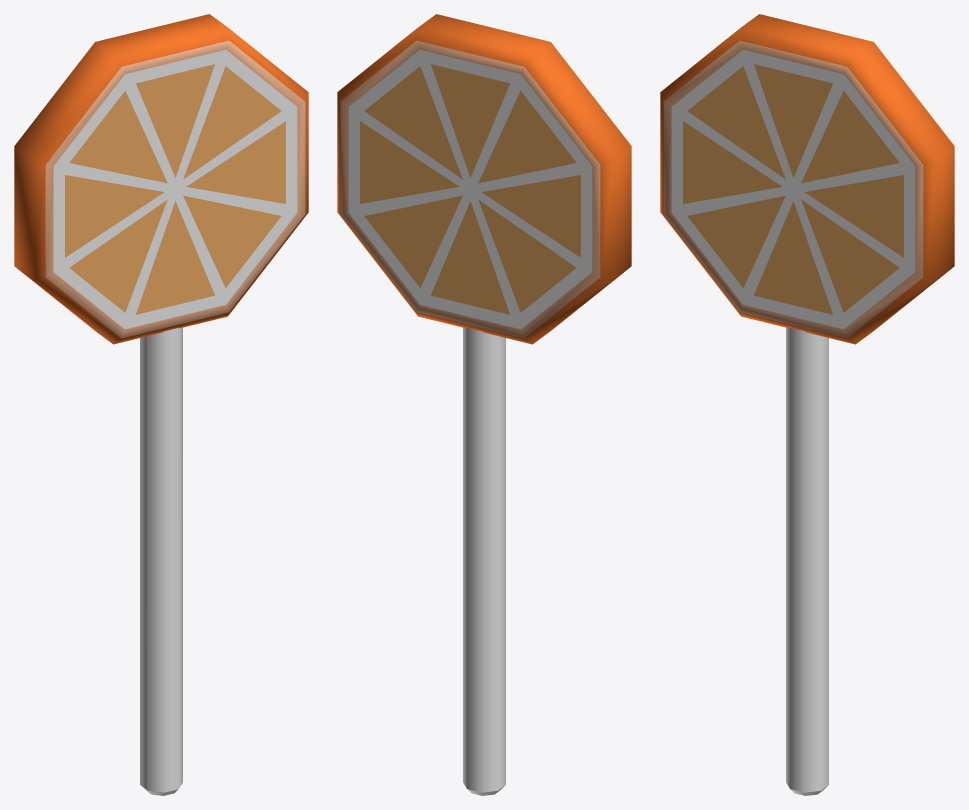
File: Candy_13.fbx
3 views of the same model, side by side, from view 1: azimuth 30°, elevation 25°; view 2: azimuth 150°, elevation 25°; view 3: azimuth 330°, elevation 25° (orthographic).
Parts seen in each view (by area): view 1: Candy_13; view 2: Candy_13; view 3: Candy_13.
Part boxes in pixels (x1,y1,x2,y2): Candy_13: (14,14,308,795); Candy_13: (337,14,631,795); Candy_13: (660,14,954,795).
Bounding box in the file's own units: 1.1 × 2.87 × 0.193.
